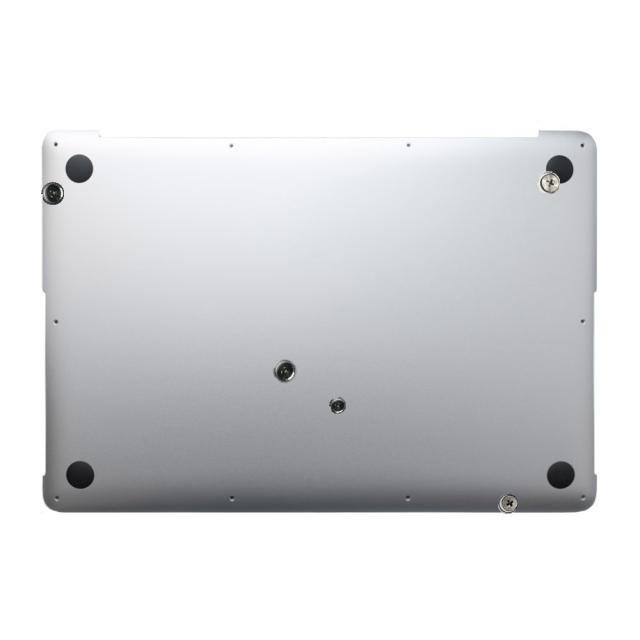lock: (536, 171, 560, 195), (41, 182, 64, 205), (273, 359, 296, 382), (497, 493, 518, 514), (329, 397, 346, 413)
